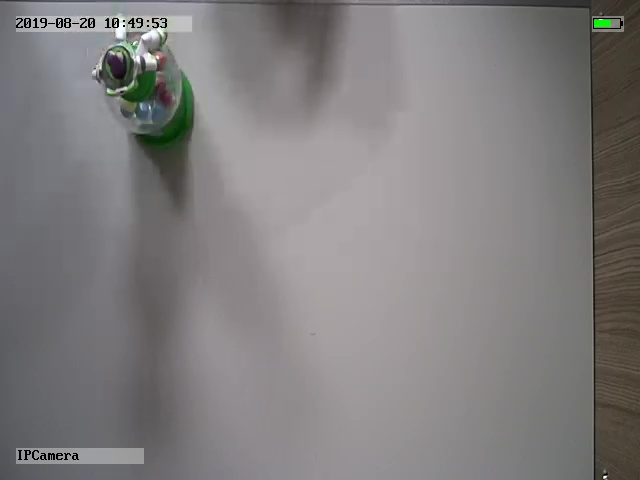buzz: (93, 11, 195, 144)
